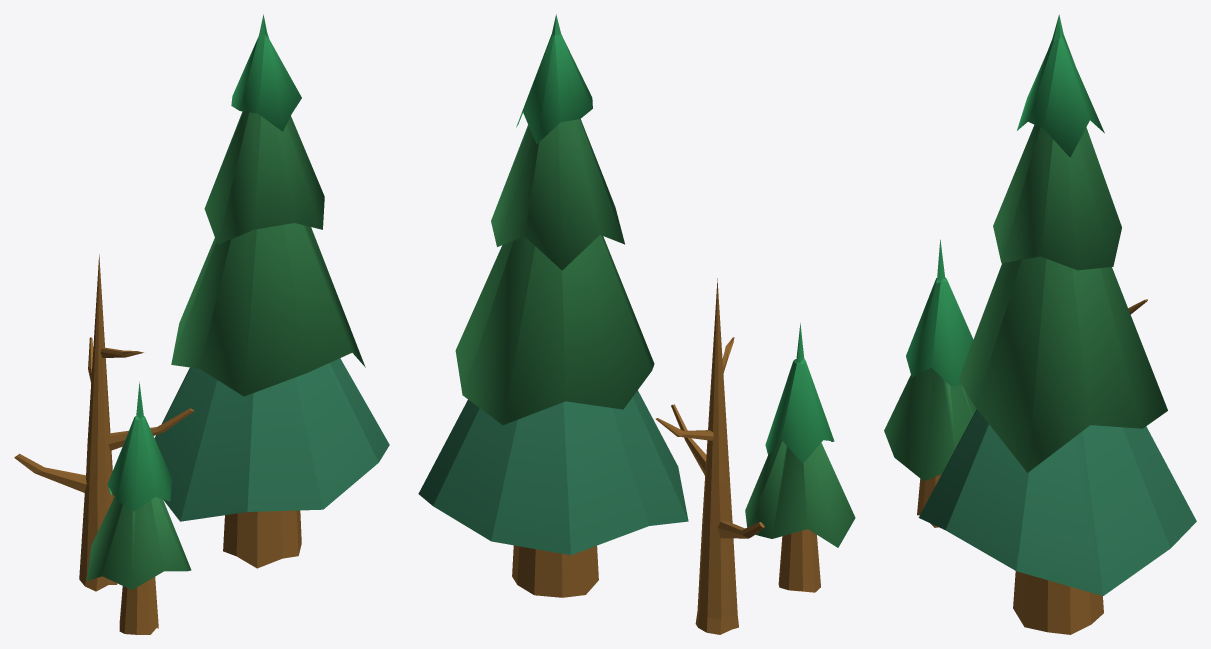
The model's file is trees 3 more.fbx.
3 renders of one model, left to right at view 1: azimuth 30°, elevation 25°; view 2: azimuth 150°, elevation 25°; view 3: azimuth 270°, elevation 25°, orthographic. The views are drawn at different scales.
Parts seen in each view (by area): view 1: Cylinder.001, Cylinder.002, Cylinder; view 2: Cylinder.001, Cylinder.002, Cylinder; view 3: Cylinder.001, Cylinder.002.
Part boxes in pixels (x1,y1,x2,y2): Cylinder.001: [154, 14, 389, 568]; Cylinder.002: [86, 382, 191, 634]; Cylinder: [14, 254, 193, 591]; Cylinder.001: [418, 14, 688, 597]; Cylinder.002: [745, 323, 855, 592]; Cylinder: [656, 278, 764, 634]; Cylinder.001: [918, 14, 1196, 634]; Cylinder.002: [884, 239, 976, 527].
Size of the model in its own units: 483 by 745 by 350.
